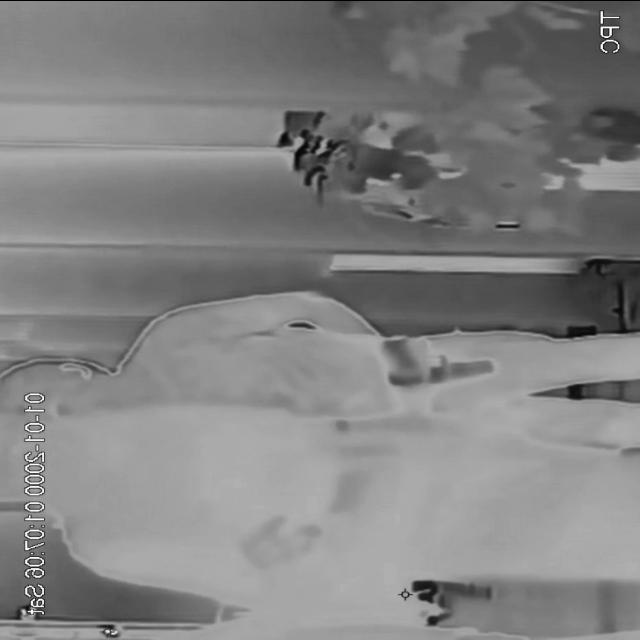Weapon: (378, 334, 500, 401)
